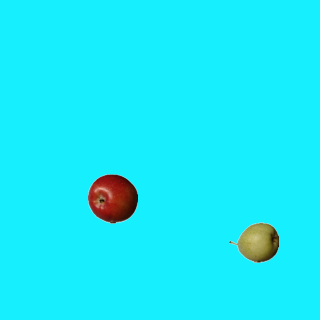Apple Braeburn: (87, 173, 137, 223)
Pear: (228, 217, 278, 267)
